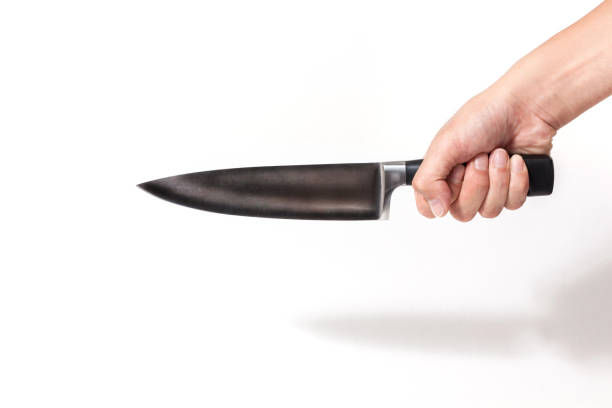knife: (133, 151, 557, 223)
